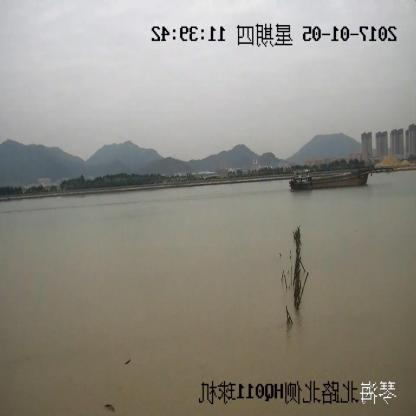Bulk Carrier: (288, 157, 386, 191)
